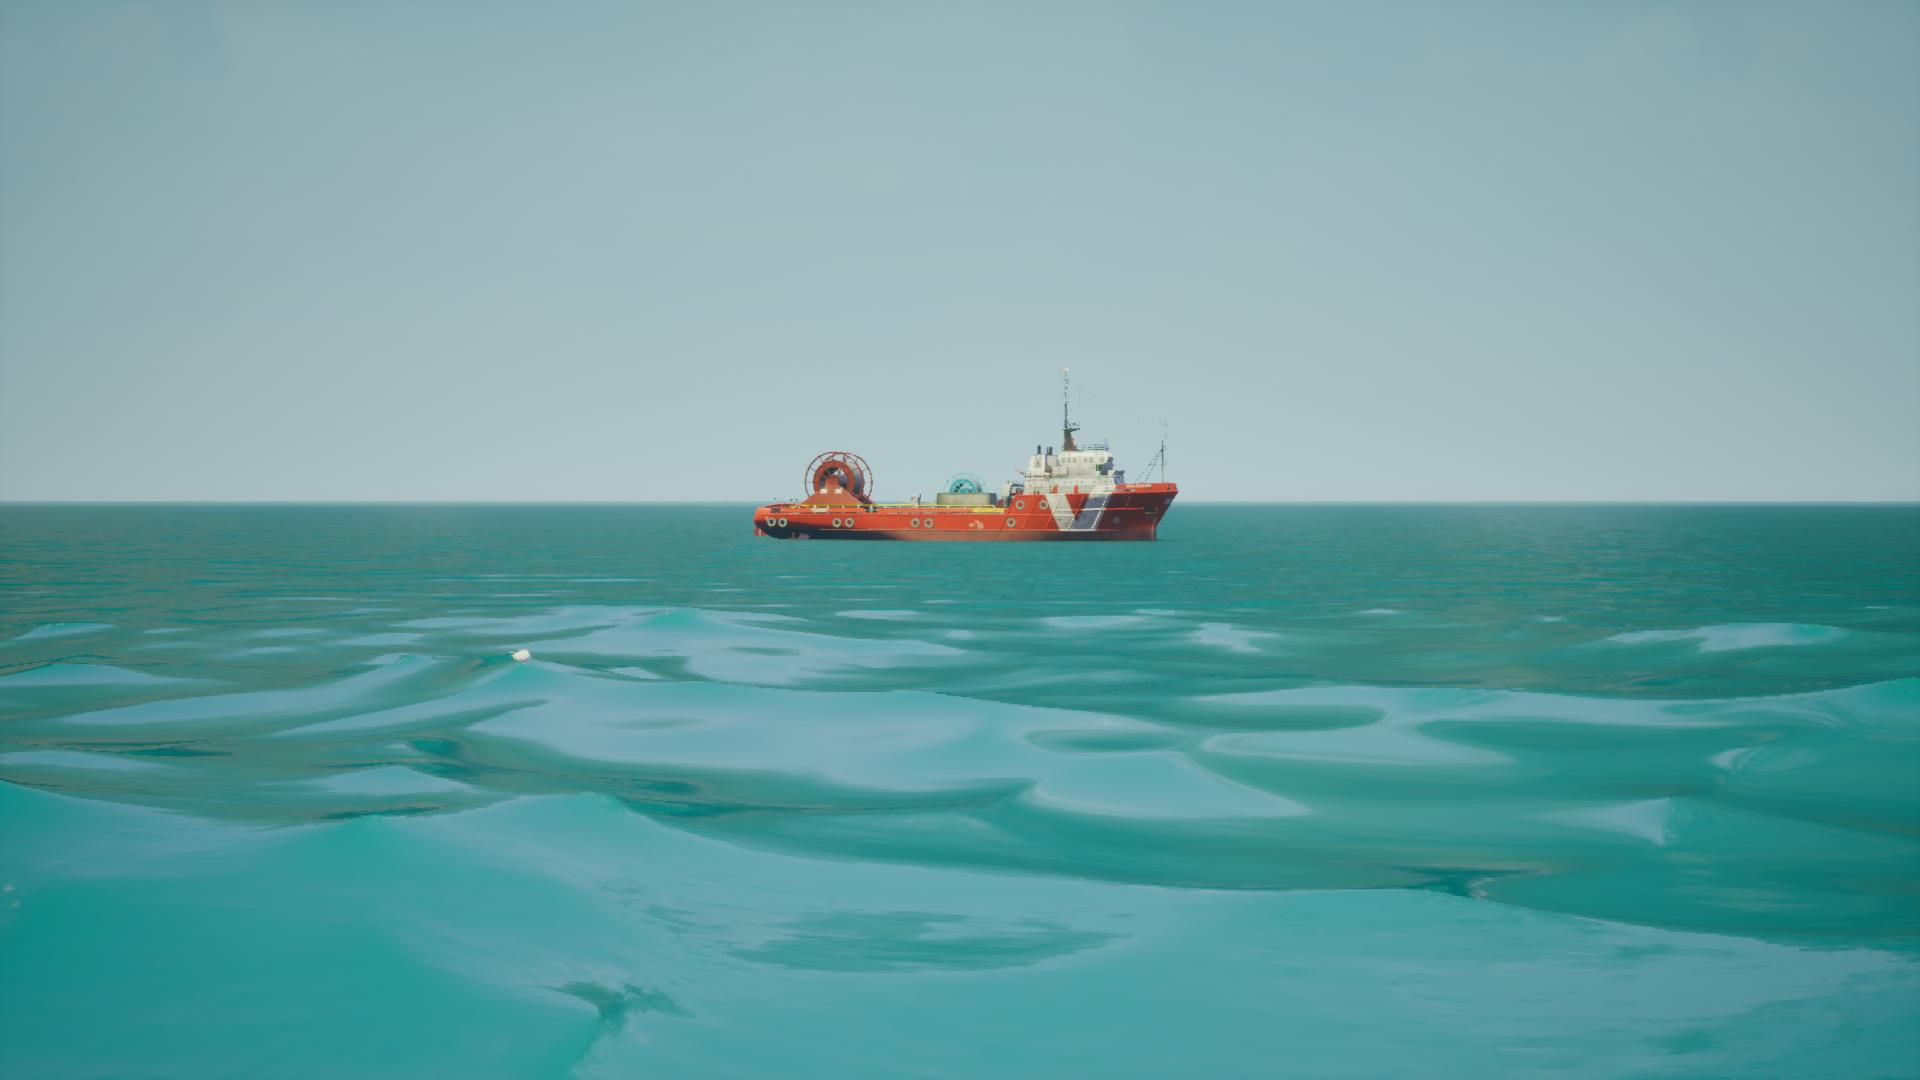Tug Boat: (753, 371, 1182, 547)
